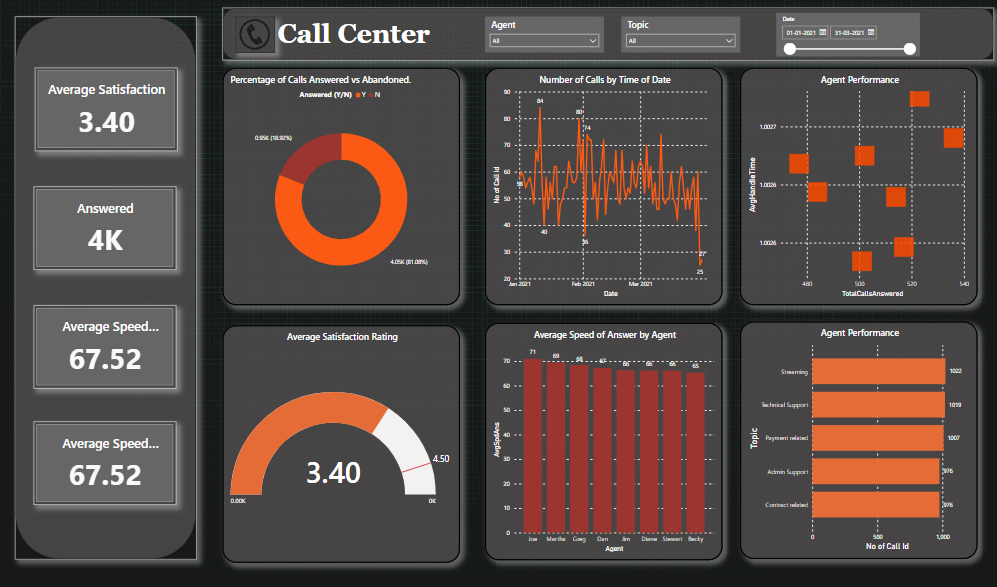

The page's visual inventory and layout, read from the dashboard file:
{"tool":"powerbi","page":{"name":"Page 1","canvas":[2100,1250],"ordinal":0},"visuals":[{"type":"donutChart","title":"Percentage of Calls Answered vs Abandoned.","fields":{"Category":["Table1.Answered (Y/N)"],"Y":["Table1.Call Id"]},"box":[469,144.8,500,500],"z":0},{"type":"lineChart","title":"Number of Calls by Time of Date","fields":{"Y":["Table1.Call Id"],"Category":["Table1.Date"]},"box":[1020.7,144.8,500,500],"z":1000},{"type":"gauge","title":"Average Satisfaction Rating","fields":{"Y":["Table1.Satisfaction rating"],"MaxValue":["Sum(Table1.Satisfaction rating)1"],"TargetValue":["Table1.Target Value Satisfaction"]},"box":[469,686.2,500,500],"z":2000},{"type":"clusteredColumnChart","title":"Average Speed of Answer by Agent","fields":{"Category":["Table1.Agent"],"Y":["Table1.AvgSpdAns"]},"box":[1020.7,682.8,500,500],"z":3000},{"type":"scatterChart","title":"Agent Performance","fields":{"X":["Table1.TotalCallsAnswered"],"Y":["Table1.AvgHandleTime"],"Category":["Table1.Agent"],"Size":["Table1.Satisfaction rating"]},"box":[1558.6,144.8,500,500],"z":4000},{"type":"barChart","title":"Agent Performance","fields":{"Category":["Table1.Topic"],"Y":["Table1.Call Id"]},"box":[1558.6,679.3,500,500],"z":5000},{"type":"shape","box":[30.8,35.9,382.1,1143.6],"z":6000},{"type":"cardVisual","fields":{"Data":["Table1.Average Satisfaction"]},"box":[73.3,144.4,300,175.6],"z":7000},{"type":"cardVisual","fields":{"Data":["Table1.TotalCallsAnswered"]},"box":[71.1,395.6,300,175.6],"z":8000},{"type":"cardVisual","fields":{"Data":["Table1.AvgSpdAns"]},"box":[71.1,644.4,300,175.6],"z":9000},{"type":"cardVisual","fields":{"Data":["Table1.AvgSpdAns"]},"box":[71.1,888.9,300,175.6],"z":10000},{"type":"shape","box":[468,18,1624,110],"z":11000},{"type":"textbox","box":[468,36,552,92],"z":12000},{"type":"slicer","fields":{"Values":["Table1.Agent"]},"box":[1020,36,250,76],"z":12001},{"type":"slicer","fields":{"Values":["Table1.Topic"]},"box":[1308,36,250,76],"z":12002},{"type":"slicer","fields":{"Values":["Table1.Date"]},"box":[1634,28,302,92],"z":12003},{"type":"image","box":[496,36,84,76],"z":12004}]}

Visuals, with their boxes in screenshot pixels (x1, y1, x2, y2), scaled from the page's 2100x1250 canvas onto the 997x587 screenshot:
"Percentage of Calls Answered vs Abandoned." donutChart: (223,68,460,303)
"Number of Calls by Time of Date" lineChart: (485,68,722,303)
"Average Satisfaction Rating" gauge: (223,322,460,557)
"Average Speed of Answer by Agent" clusteredColumnChart: (485,321,722,555)
"Agent Performance" scatterChart: (740,68,977,303)
"Agent Performance" barChart: (740,319,977,554)
shape: (15,17,196,554)
cardVisual - Table1.Average Satisfaction: (35,68,177,150)
cardVisual - Table1.TotalCallsAnswered: (34,186,176,268)
cardVisual - Table1.AvgSpdAns: (34,303,176,385)
cardVisual - Table1.AvgSpdAns: (34,417,176,500)
shape: (222,8,993,60)
textbox: (222,17,484,60)
slicer - Table1.Agent: (484,17,603,53)
slicer - Table1.Topic: (621,17,740,53)
slicer - Table1.Date: (776,13,919,56)
image: (235,17,275,53)
